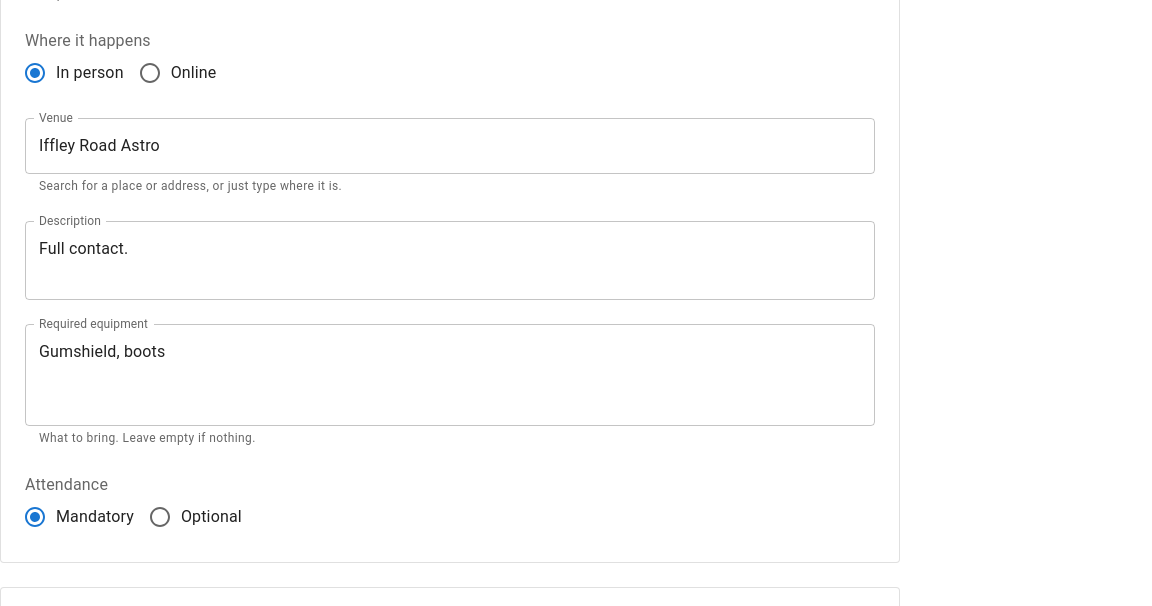
where the one tick starts › is off for a description change, and the button says so
This screenshot has width=1152, height=606.
(page scrolled)
Replace the text in the text box labelled "Description" with "Light session." at (450, 260), box [39,237,861,283]
(page scrolled)
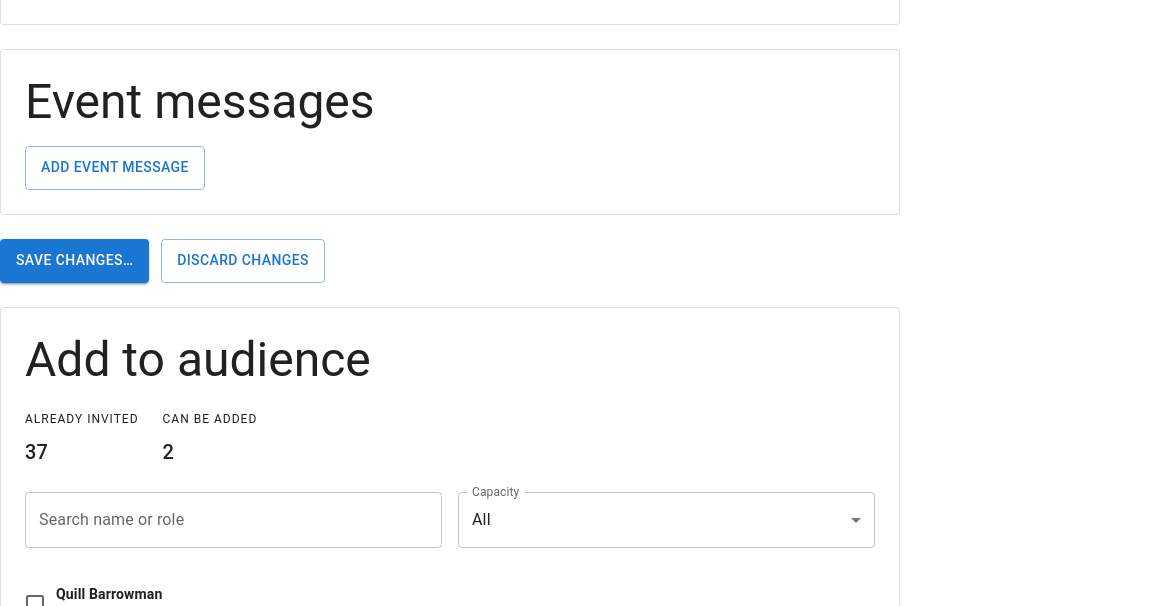
Click the button with test id "continue-to-review" at (75, 261), box [0,239,149,283]
(page scrolled)
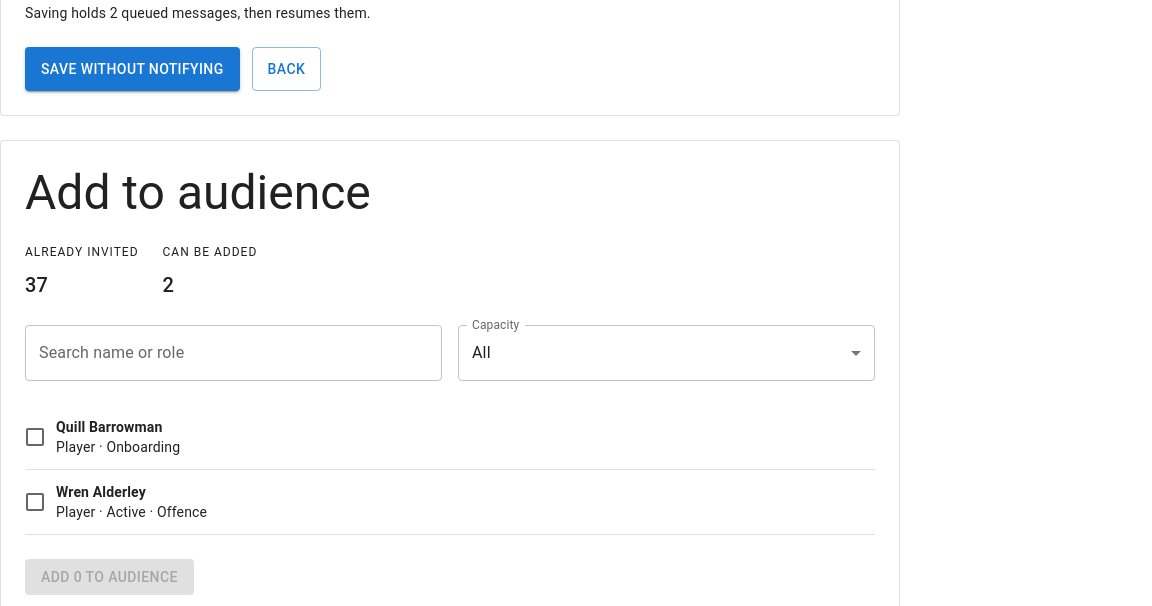
Check: the button with test id "save-amendment" reads "Save without notifying", box [25,47,240,91]
